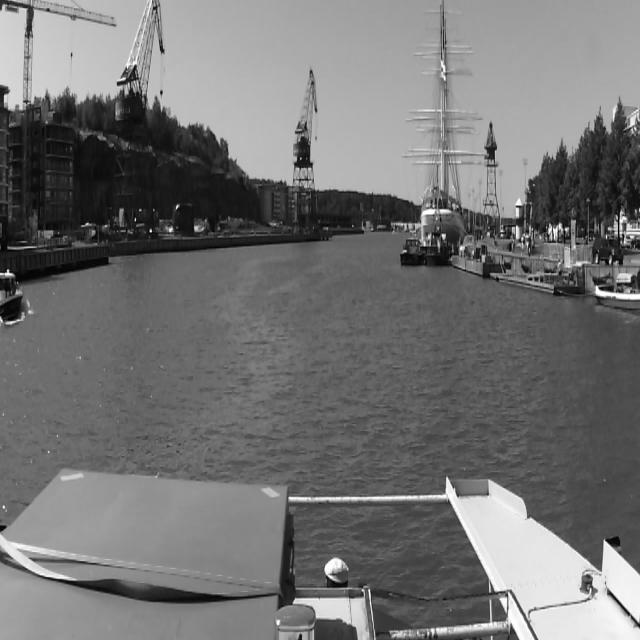ship: (419, 0, 468, 238), (0, 267, 26, 327)
